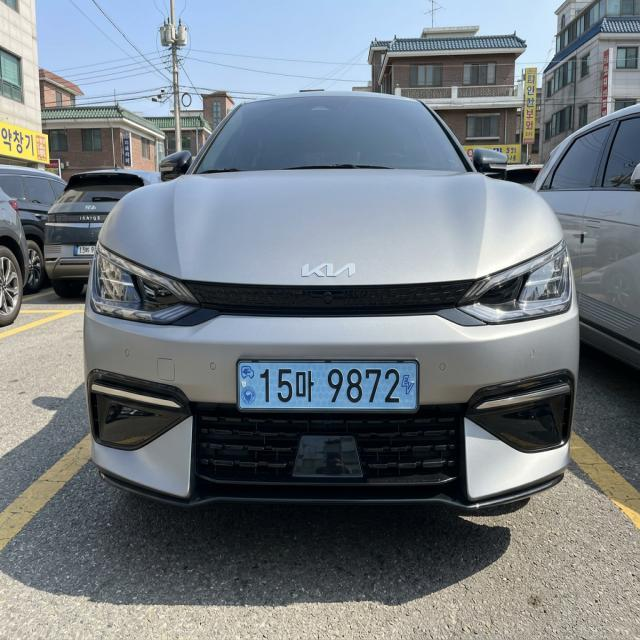car: (211, 353, 450, 425)
carev: (399, 359, 418, 415), (237, 359, 257, 412)
